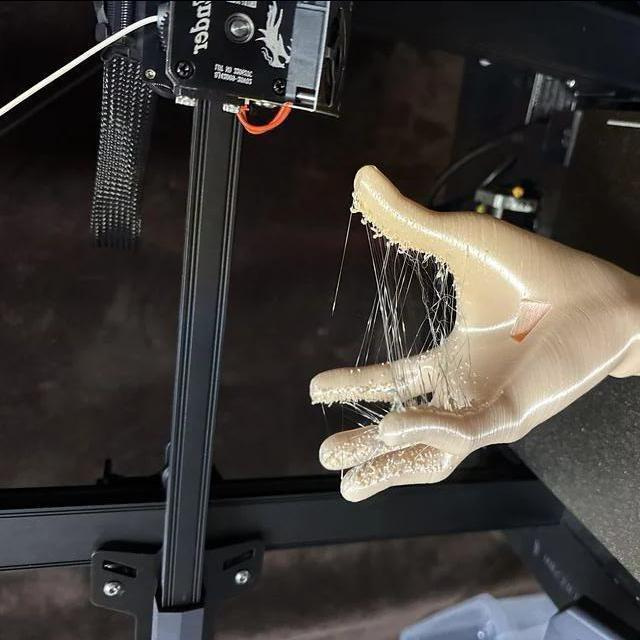stringing: (352, 209, 426, 404), (351, 236, 395, 369), (409, 249, 456, 350), (347, 400, 391, 428)
